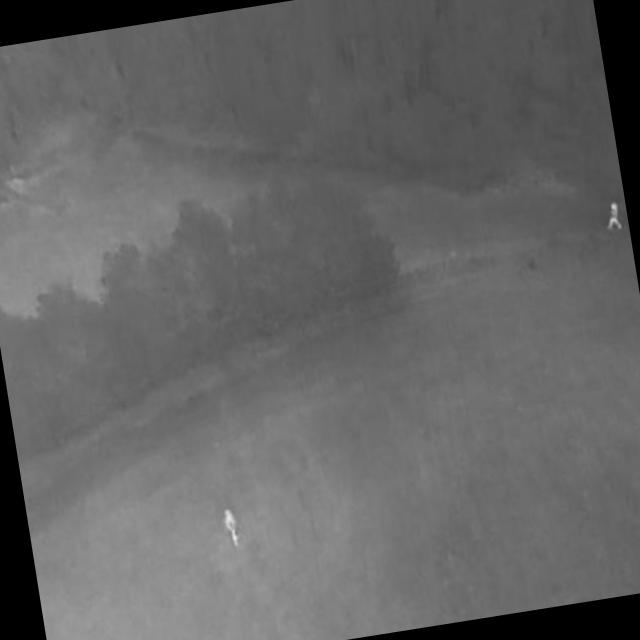person: (223, 508, 243, 550), (604, 202, 625, 233)
